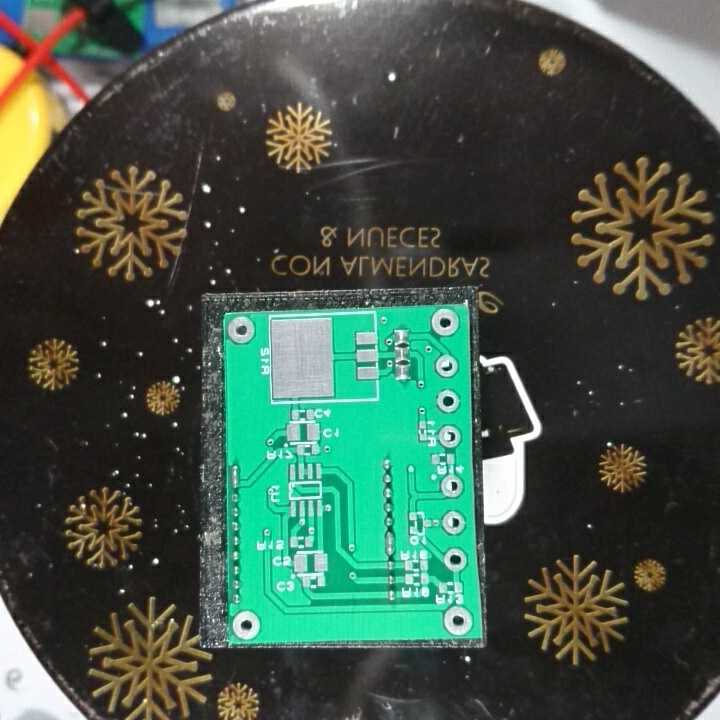F: (441, 601, 475, 636), (231, 606, 265, 640), (226, 314, 258, 346), (438, 506, 468, 540), (430, 307, 460, 339), (439, 471, 467, 500), (432, 354, 462, 380), (443, 547, 470, 575), (437, 422, 463, 451), (433, 390, 461, 414)
P: (381, 529, 401, 559), (227, 462, 247, 491)
